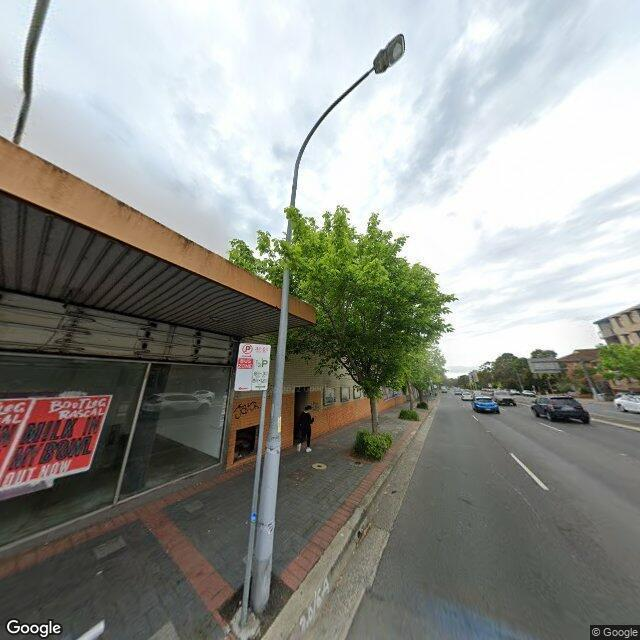steel-pole: (250, 164, 300, 611)
streetlight: (294, 32, 407, 169)
